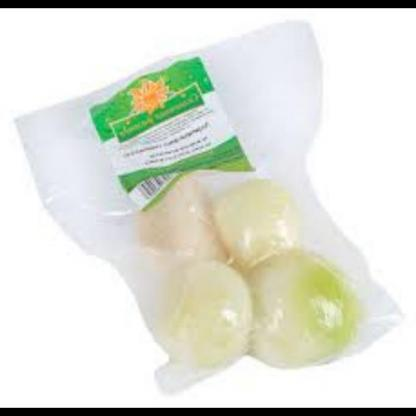onion: (143, 163, 351, 371)
